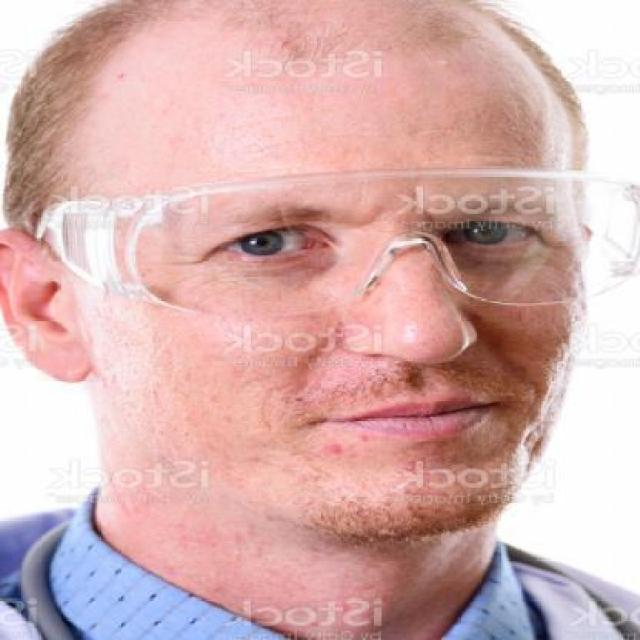face_nomask: (216, 198, 553, 491)
glasses: (41, 160, 638, 312)
